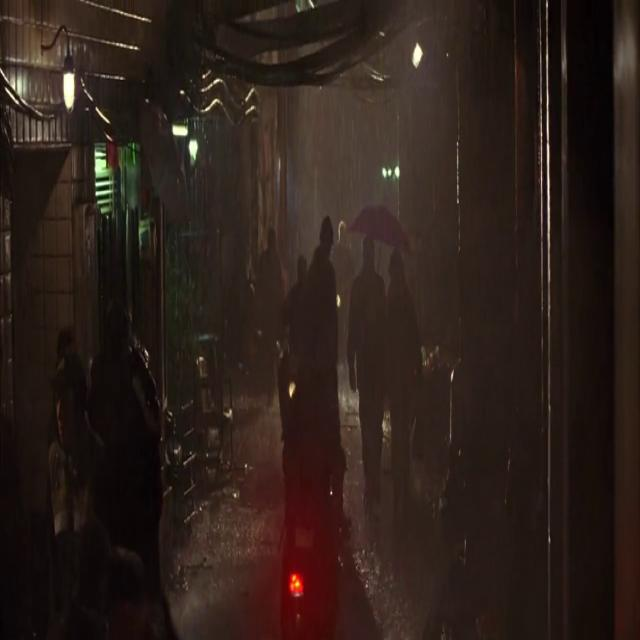Motorbike: (244, 423, 353, 640), (267, 287, 323, 443)
